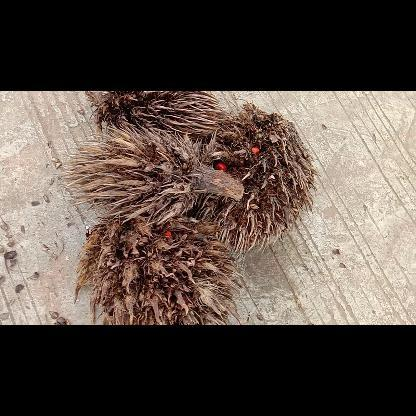Janjang kosong: (73, 224, 245, 324), (216, 101, 318, 257), (60, 135, 242, 219), (80, 92, 230, 132)
